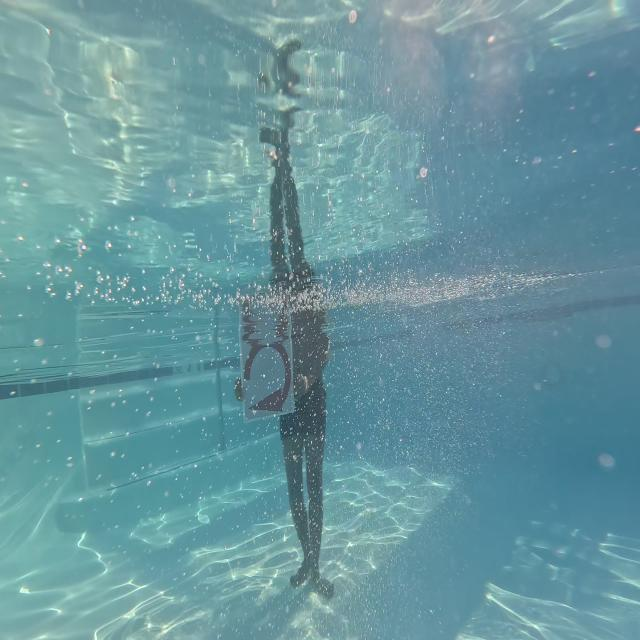red_side: (232, 326, 304, 436)
